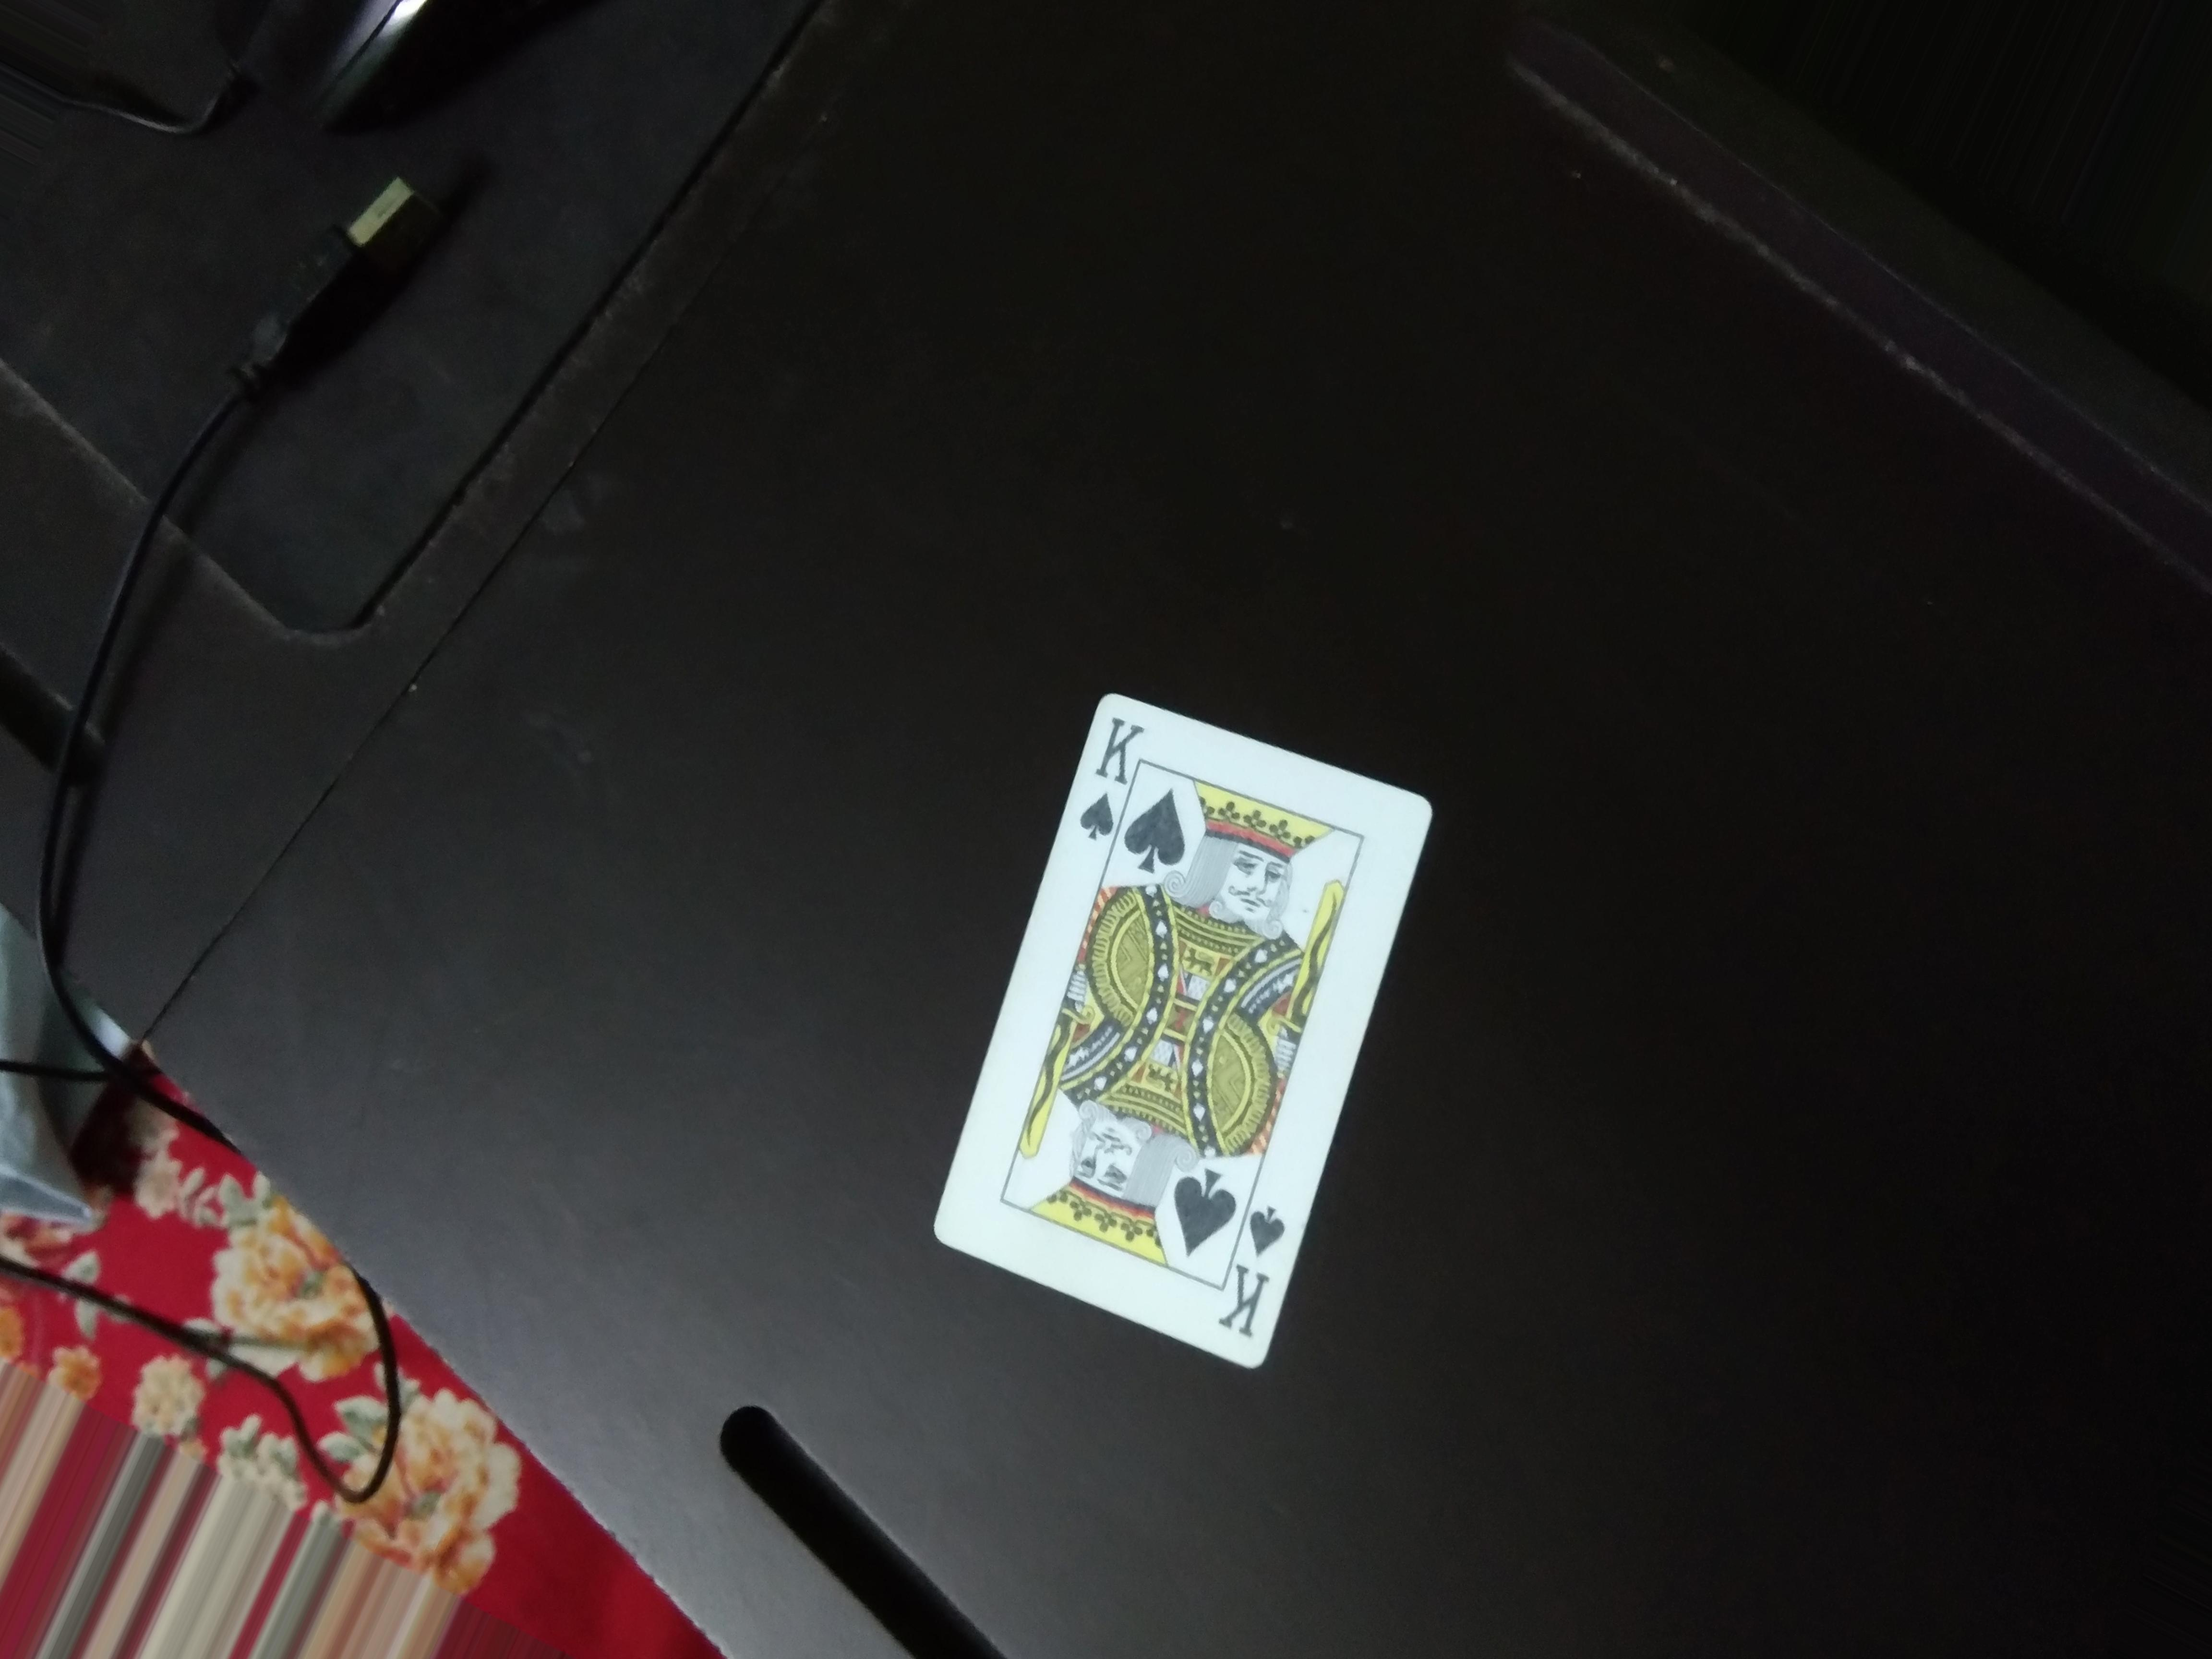KS: (1080, 709, 1146, 850)
